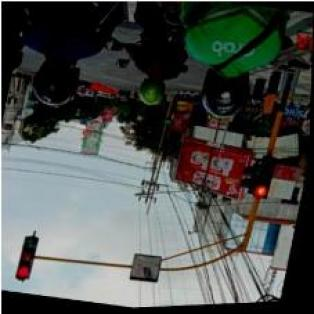Semaforo Rojo: (14, 232, 41, 285), (257, 156, 278, 201)
